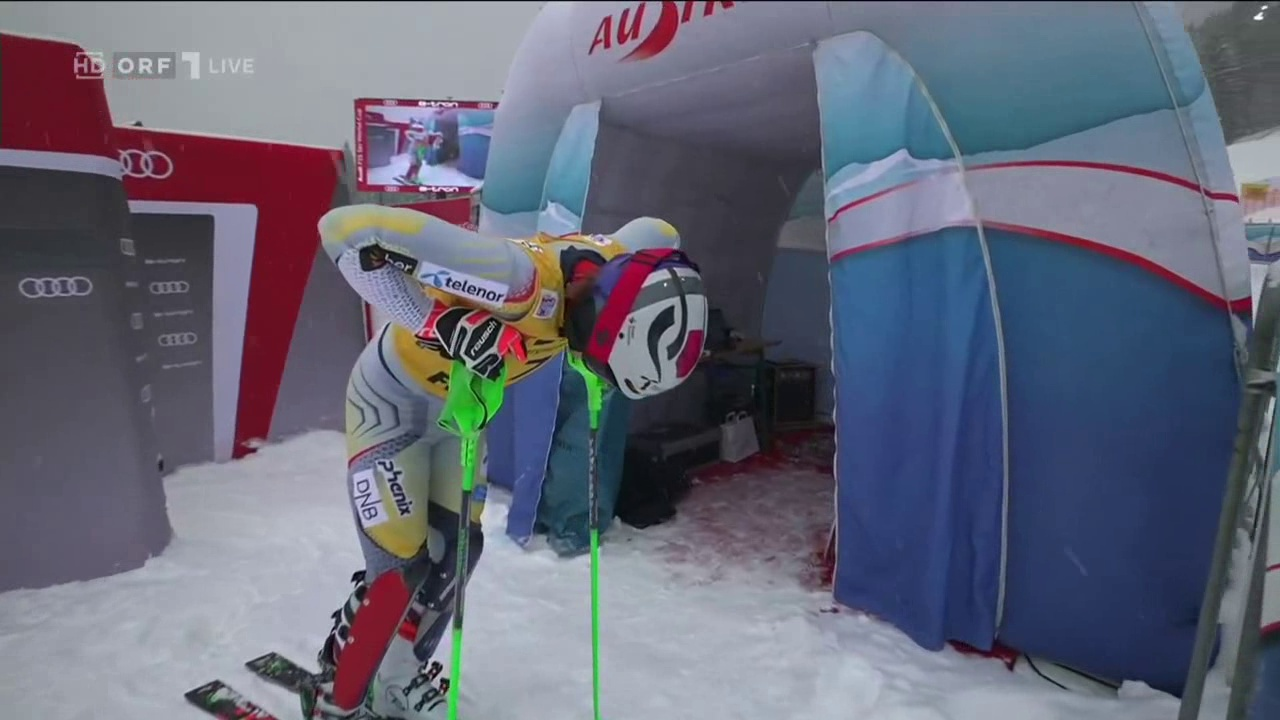audi: (19, 275, 96, 305), (118, 147, 177, 183), (153, 331, 202, 354), (144, 279, 194, 300)
